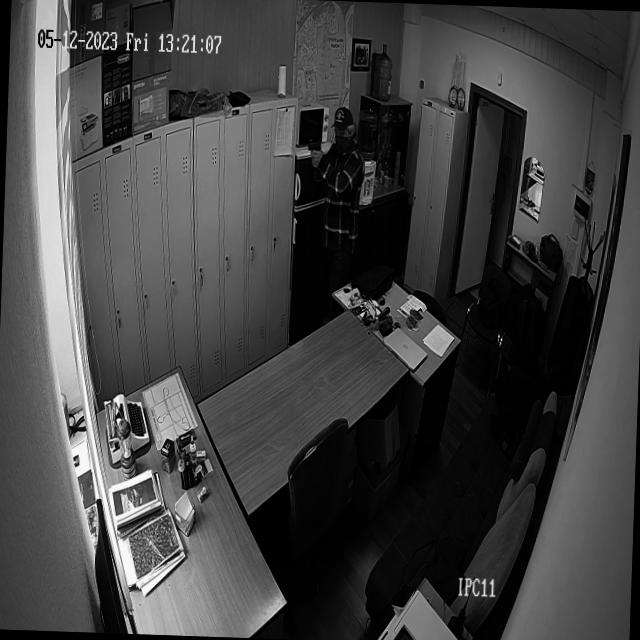gun: (302, 136, 331, 152)
person with a gun: (298, 96, 369, 281)
